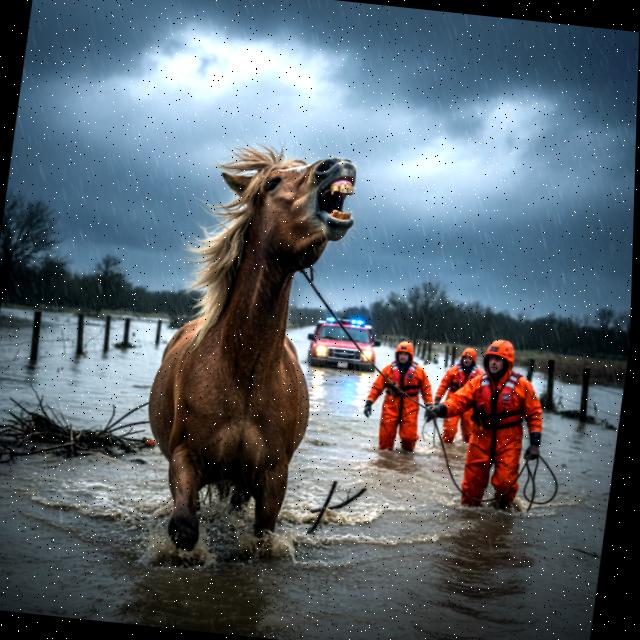horse: (115, 118, 376, 581)
rescuer: (408, 322, 563, 525), (359, 334, 443, 459), (428, 334, 487, 452)
